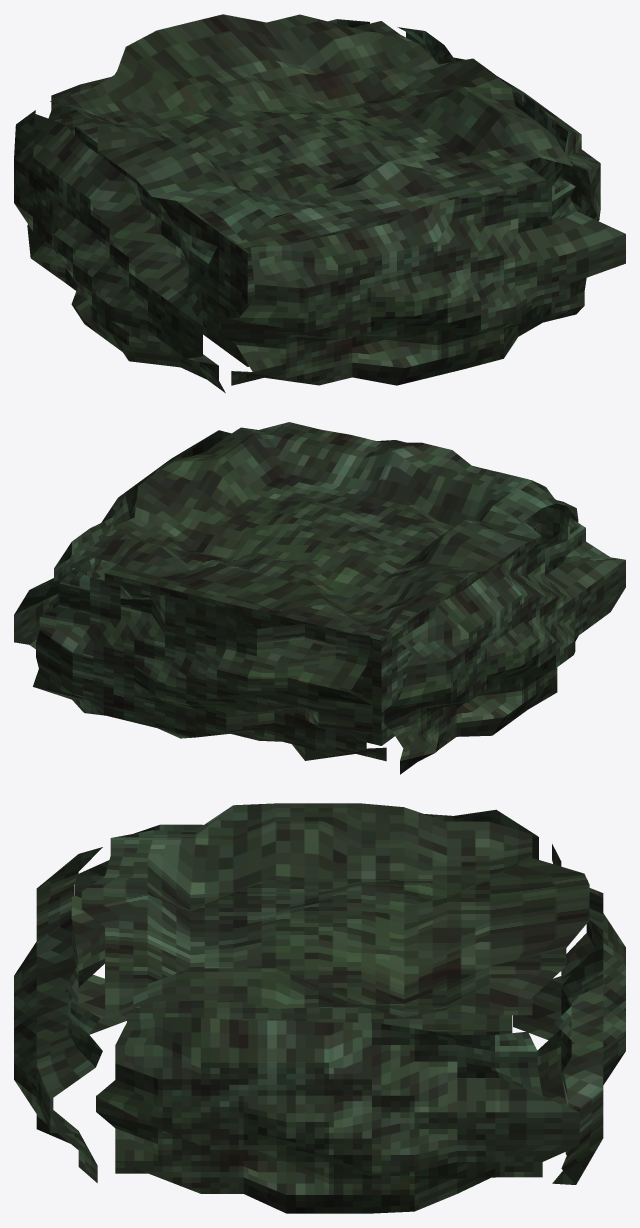
File: bush1.fbx
3 renders of one model, top to bottom at view 1: azimuth 30°, elevation 25°; view 2: azimuth 150°, elevation 25°; view 3: azimuth 270°, elevation 25°, orthographic. The views are drawn at different scales.
Parts seen in each view (by area): view 1: bush.001; view 2: bush.001; view 3: bush.001.
Boxes of the visible parts, x1,y1,x2,y2 form: bush.001: (14,14,625,393); bush.001: (14,422,625,774); bush.001: (14,803,625,1213).
Bounding box in the file's own units: 353 × 133 × 357.
